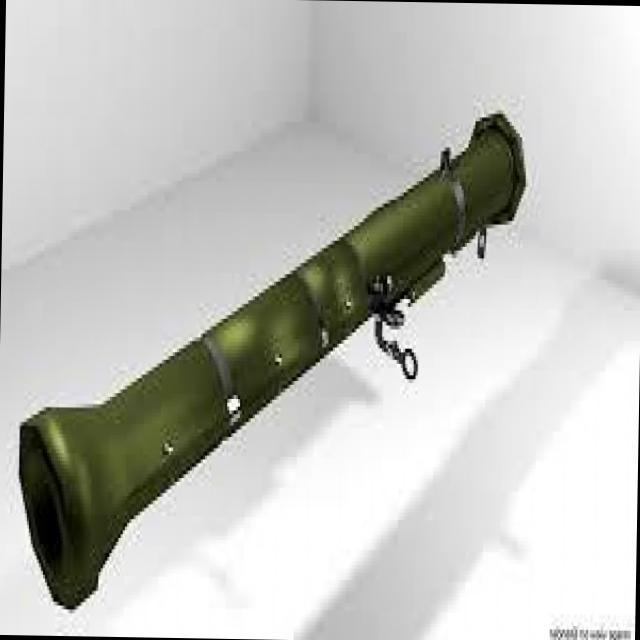rocket: (16, 105, 522, 613)
